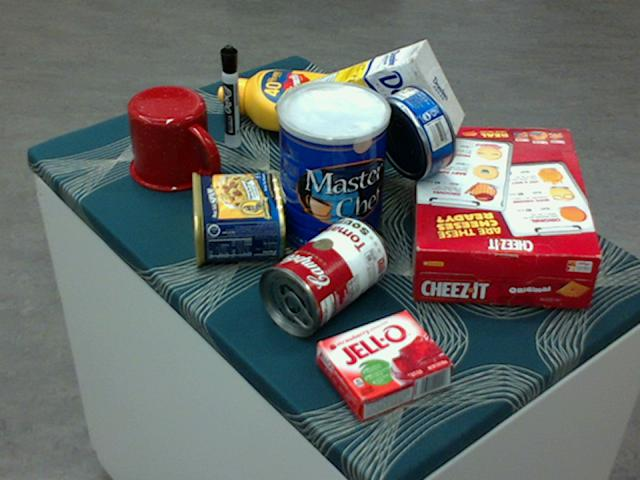cracker_box: (409, 125, 600, 307)
gelatin_box: (316, 309, 453, 419)
large_marker: (218, 44, 241, 148)
master_chef_can: (276, 82, 389, 263)
mug: (127, 85, 216, 192)
mustard_bottle: (216, 68, 384, 140)
potted_meat_can: (188, 171, 284, 266)
sugar_box: (271, 40, 463, 174)
tomato_soup_can: (256, 217, 388, 335)
tuna_fish_can: (374, 83, 456, 178)
